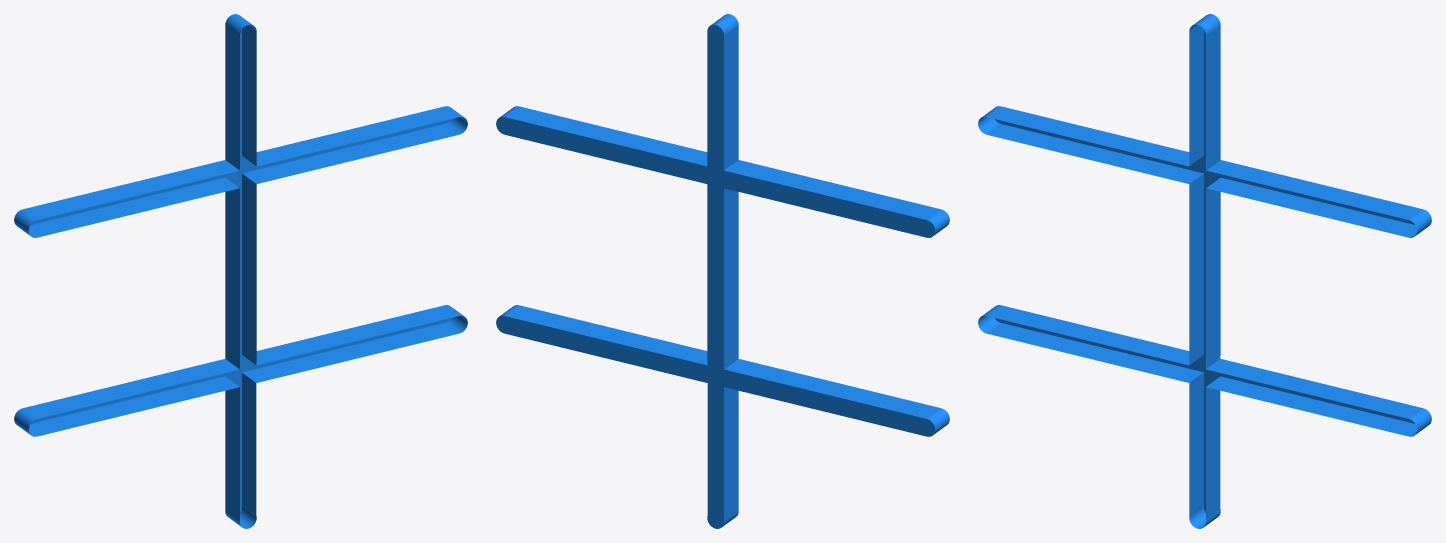
The model's file is original-21.obj.
3 renders of one model, left to right at view 1: azimuth 30°, elevation 25°; view 2: azimuth 150°, elevation 25°; view 3: azimuth 330°, elevation 25°, orthographic.
Parts seen in each view (by area): view 1: #ID91; view 2: #ID91; view 3: #ID91.
Part boxes in pixels (x1,y1,x2,y2): #ID91: [14, 14, 467, 528]; #ID91: [496, 14, 949, 528]; #ID91: [978, 14, 1431, 528].
Bounding box in the file's own units: 0.489 × 0.536 × 0.0282.
